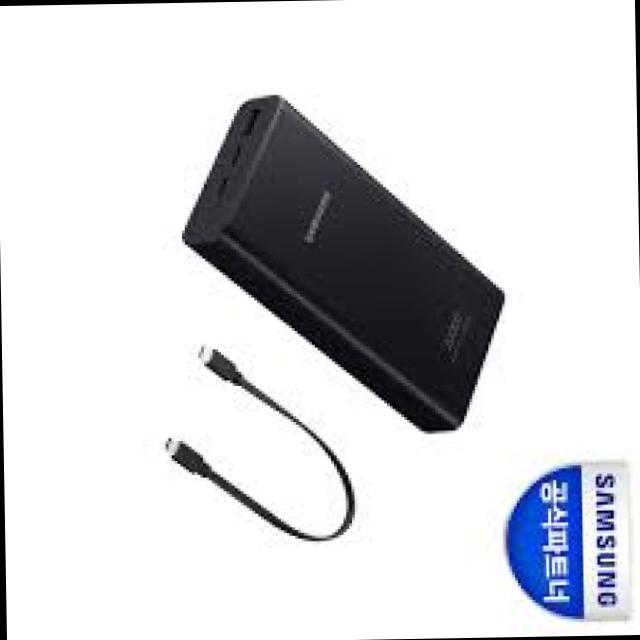portable-charger: (178, 83, 508, 443)
